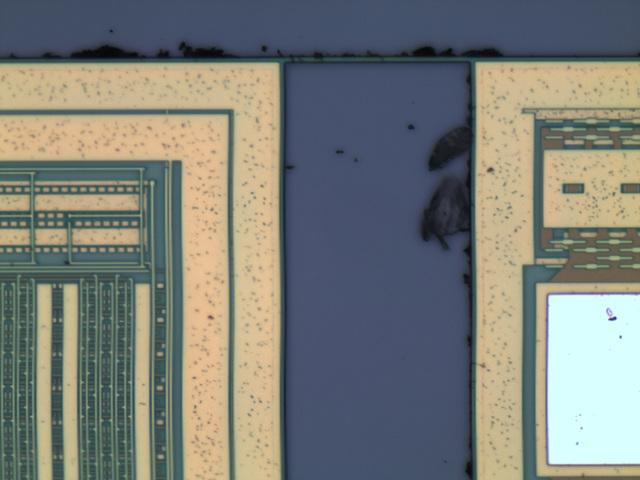PO CONTAMINATION: (1, 23, 628, 480)
